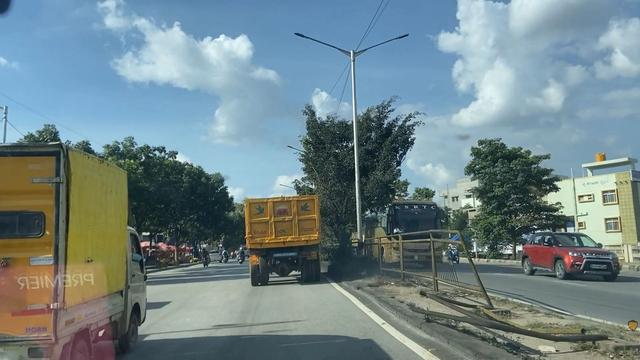HMV: (0, 150, 145, 360), (240, 191, 322, 288)
